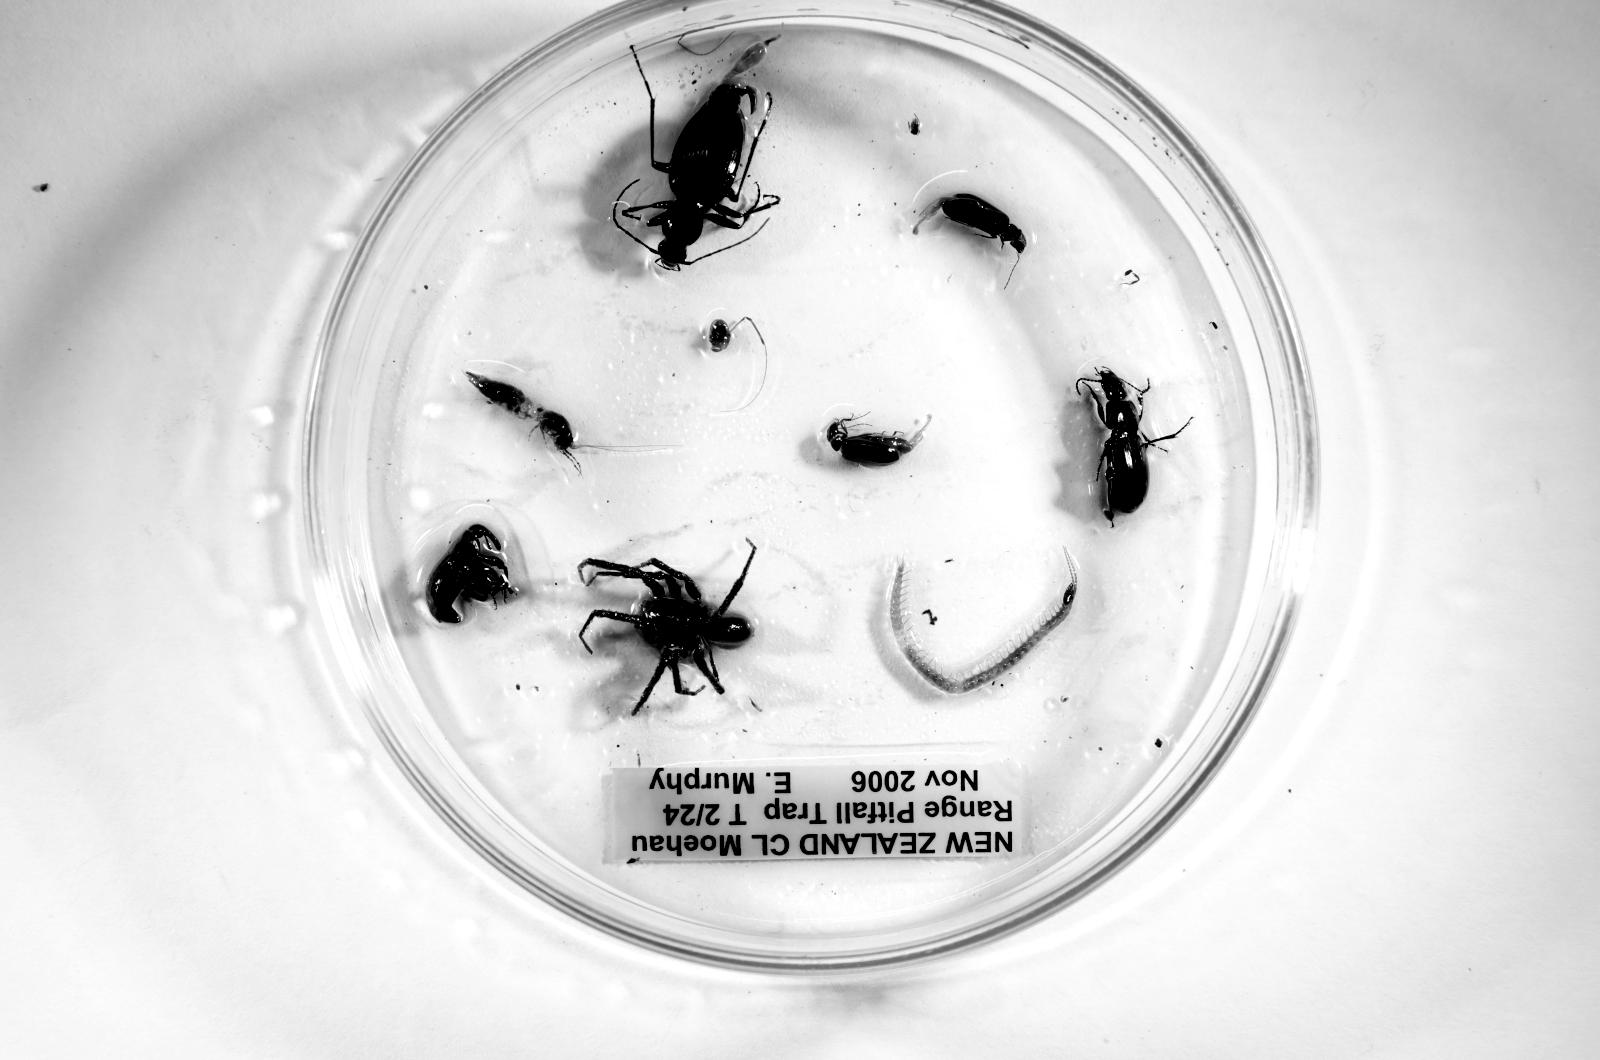araneae: (578, 543, 756, 716)
carabidae: (615, 80, 780, 271), (1077, 367, 1187, 524)
chilopoda: (889, 548, 1078, 693)
coleoptera: (428, 524, 517, 623), (913, 193, 1026, 254), (827, 416, 924, 466)
